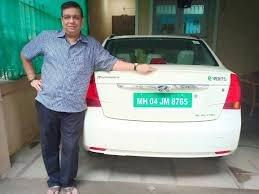Liscence Plate: (133, 90, 193, 106)
